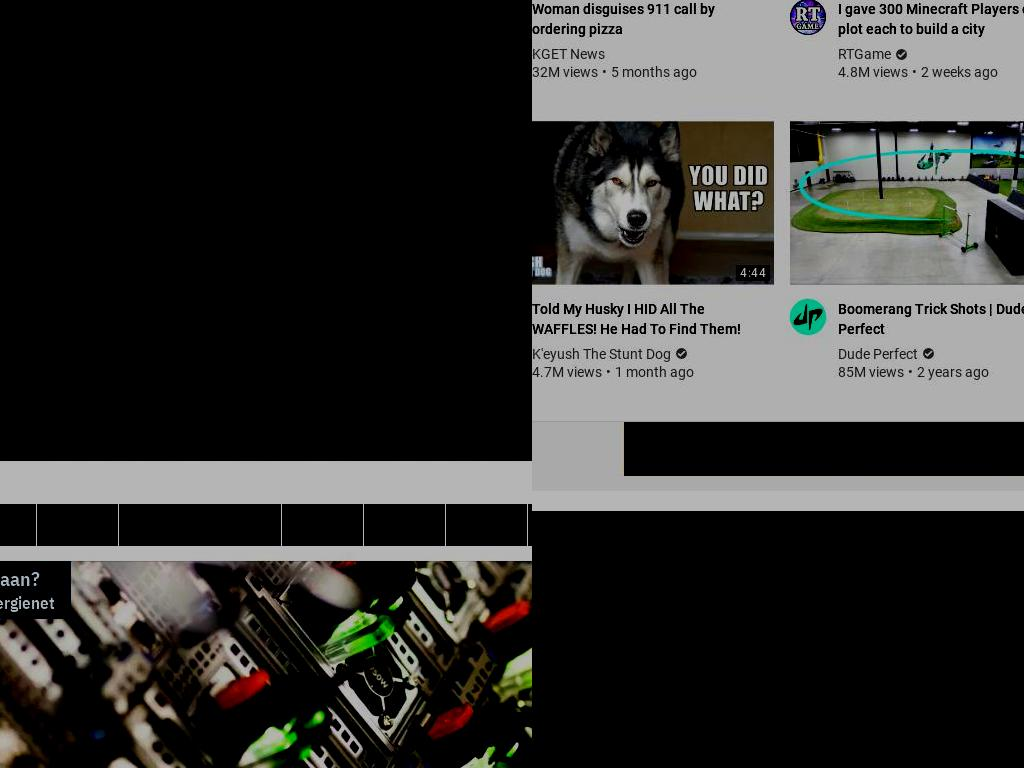button: (0, 561, 532, 768), (532, 121, 775, 285), (790, 121, 1024, 285), (532, 298, 751, 339), (532, 0, 751, 40), (838, 298, 1024, 339), (838, 0, 1024, 40), (37, 504, 118, 546), (119, 504, 200, 546), (200, 504, 281, 546), (282, 504, 363, 546), (364, 504, 445, 546), (446, 504, 527, 546), (532, 344, 673, 363), (838, 344, 920, 363), (0, 504, 36, 546), (220, 0, 333, 13), (532, 45, 607, 64), (790, 298, 827, 335), (790, 0, 827, 36), (122, 0, 221, 13), (35, 0, 123, 13), (838, 45, 893, 64)
heading: (0, 0, 532, 422), (0, 295, 532, 366), (43, 223, 467, 295), (0, 152, 300, 224), (316, 152, 532, 224), (532, 298, 751, 339), (532, 0, 751, 40), (838, 298, 1024, 339), (838, 0, 1024, 40)
iframe: (624, 422, 1024, 476), (0, 422, 532, 461)
image: (0, 561, 532, 768), (532, 561, 1024, 768), (532, 121, 775, 285), (790, 121, 1024, 285), (790, 298, 827, 335), (790, 0, 827, 36), (895, 47, 909, 61), (674, 347, 688, 361), (922, 347, 936, 361)
text: (0, 396, 532, 422), (610, 63, 697, 82), (838, 63, 922, 82), (532, 362, 615, 381), (614, 362, 694, 381), (838, 362, 918, 381), (532, 63, 611, 82), (921, 63, 999, 82), (917, 362, 990, 381), (740, 266, 767, 279)
